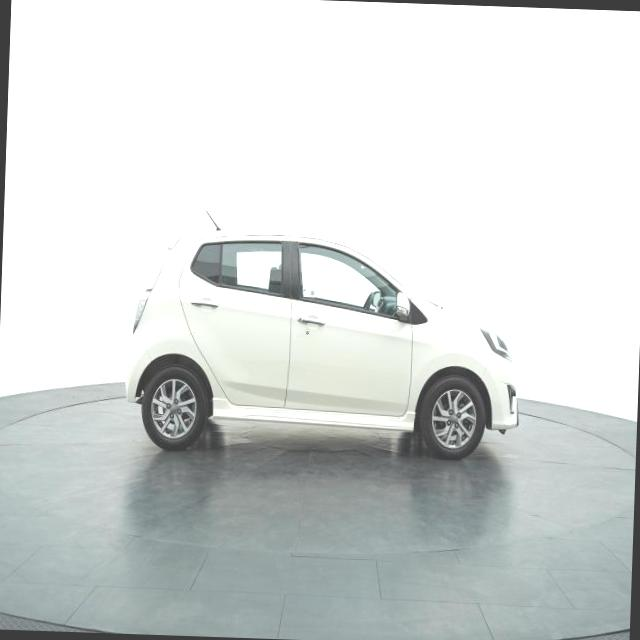PeroduaAxia: (119, 206, 526, 464)
